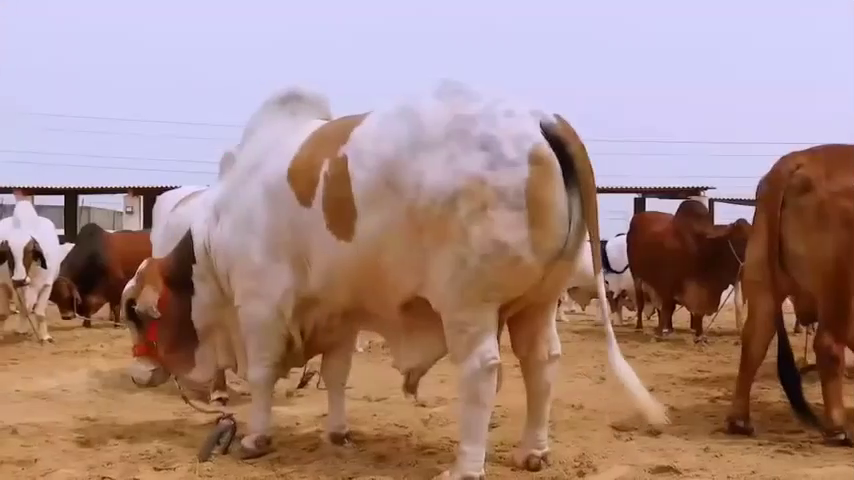bo: (99, 70, 684, 480), (704, 122, 854, 463), (623, 189, 752, 345), (39, 196, 158, 348), (2, 189, 62, 349), (595, 227, 647, 327)
